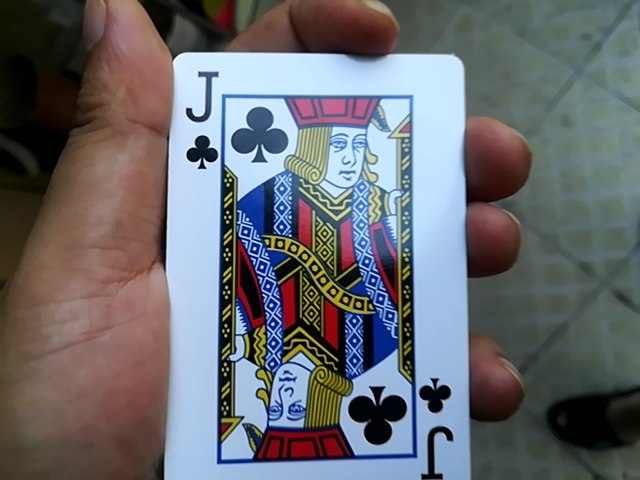mh j: (160, 45, 456, 477)
